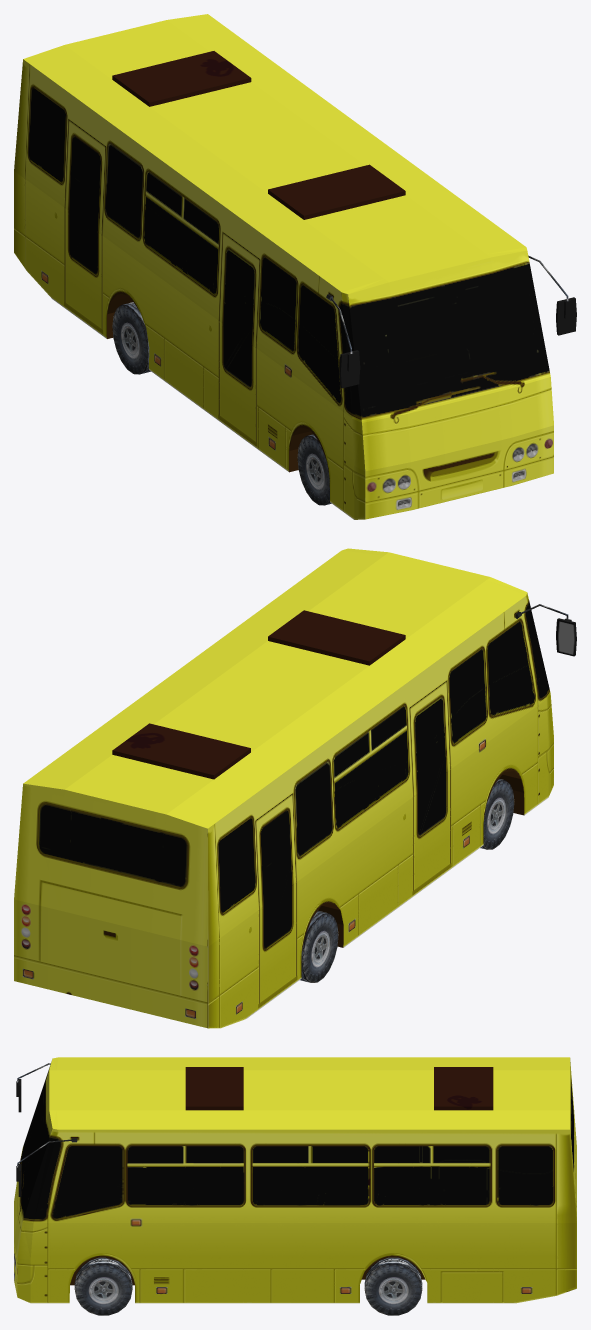
The model's file is BusIsuzuExported.fbx.
3 renders of one model, top to bottom at view 1: azimuth 30°, elevation 25°; view 2: azimuth 150°, elevation 25°; view 3: azimuth 270°, elevation 25°, orthographic. The views are drawn at different scales.
Parts seen in each view (by area): view 1: Plane009, Cylinder02.001, Cylinder03, Box002, Box001; view 2: Plane009, Cylinder02.001, Cylinder03, Box002; view 3: Plane009, Cylinder02.002, Cylinder03.002.
Boxes of the visible parts, x1,y1,x2,y2 form: Plane009: (14,14,553,519); Cylinder02.001: (112,302,149,374); Cylinder03: (297,434,331,505); Box002: (339,350,360,388); Box001: (556,297,576,335); Plane009: (14,548,553,1028); Cylinder02.001: (300,912,338,982); Cylinder03: (480,779,514,849); Box002: (556,618,576,656); Plane009: (14,1057,576,1303); Cylinder02.002: (364,1257,422,1315); Cylinder03.002: (74,1257,132,1315).
Size of the model in its own units: 13.04 by 12.66 by 33.54.
5 materials, 5 textured.
